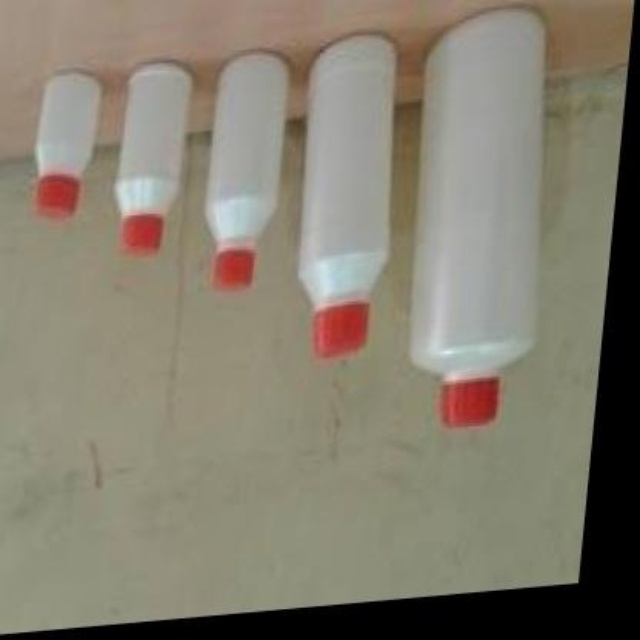trash: (409, 8, 545, 426), (409, 9, 543, 426), (297, 32, 395, 357), (298, 35, 394, 357), (205, 49, 288, 288), (115, 60, 191, 251), (115, 63, 191, 252), (35, 71, 98, 212)
